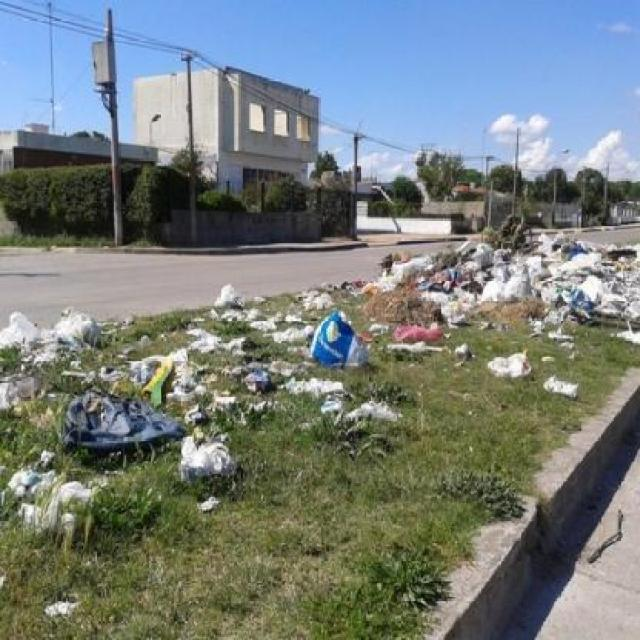garbage: (391, 248, 640, 318), (203, 299, 358, 408), (57, 378, 180, 454), (166, 428, 262, 506), (6, 309, 112, 361)
